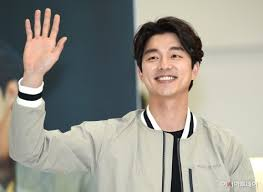palm: (19, 6, 70, 77)
